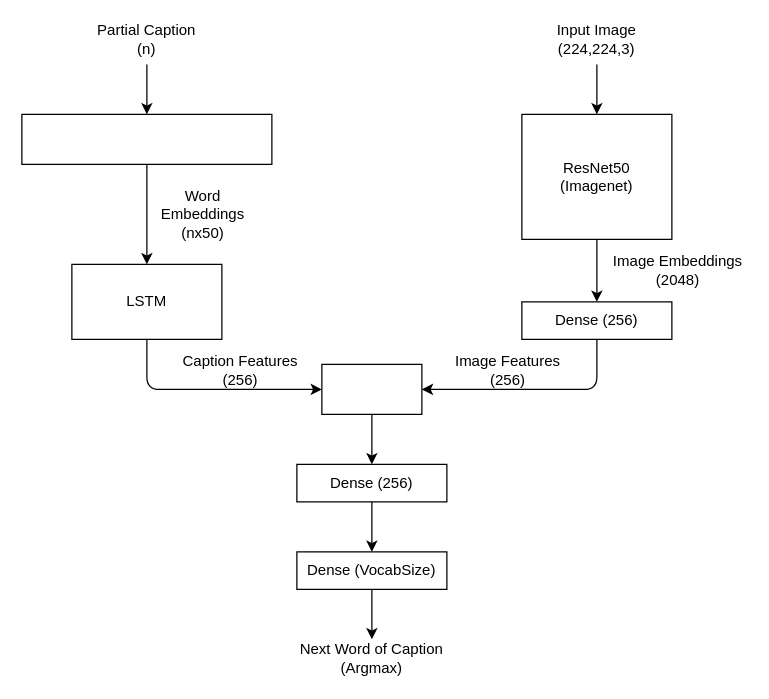
This 769x699 diagram has some shape labels left out. Each missing label, with the centre of its shape:
"Add (512)" belongs at pixel 371 388.
"Embedding Layers Glove 6B 50D embeddings" belongs at pixel 146 138.
